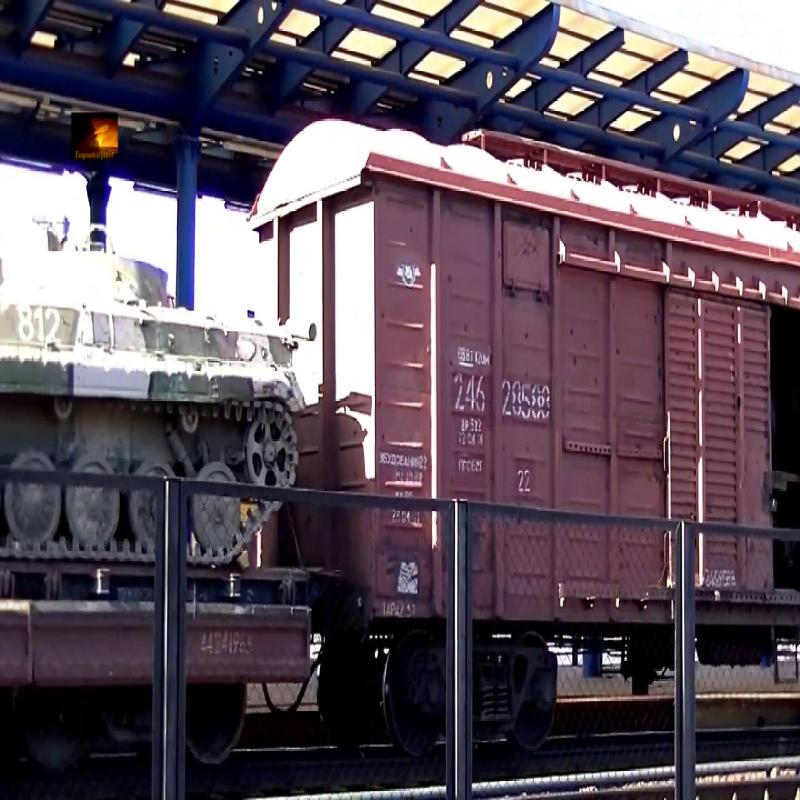train: (308, 5, 800, 769), (1, 6, 265, 772)
